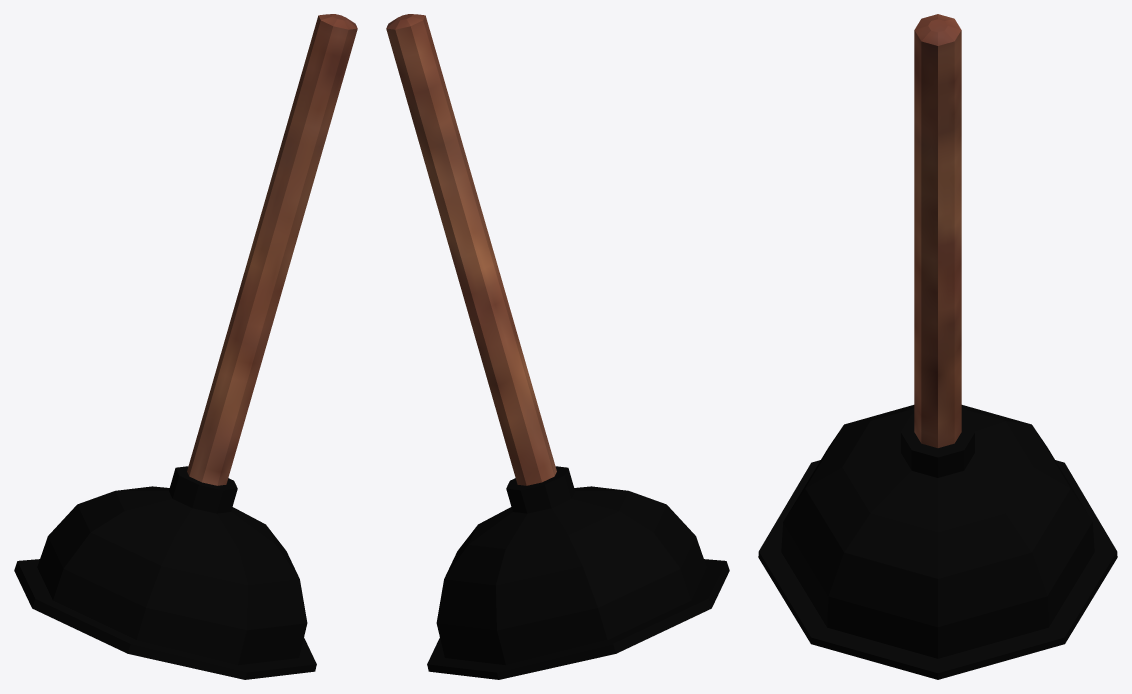
The model's file is PLUNGER HAT.fbx.
The picture shows the model from 3 angles, left to right: view 1: azimuth 30°, elevation 25°; view 2: azimuth 150°, elevation 25°; view 3: azimuth 270°, elevation 25°; orthographic projection. The views are drawn at different scales.
Visible parts, largest first — view 1: PLUNGER_HAT; view 2: PLUNGER_HAT; view 3: PLUNGER_HAT.
Boxes of the visible parts, x1=… form: PLUNGER_HAT: x1=14, y1=14, x2=357, y2=679; PLUNGER_HAT: x1=386, y1=14, x2=729, y2=679; PLUNGER_HAT: x1=758, y1=14, x2=1117, y2=679.
Bounding box in the file's own units: 19.77 × 35.57 × 17.03.
